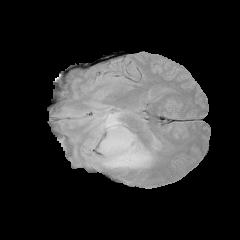glioma: (88, 112, 158, 169)
